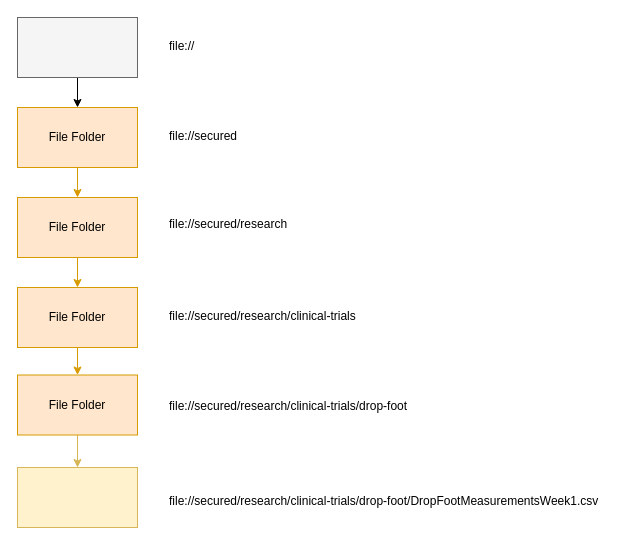
The diagram is 635 pixels wide and 545 high, and some of its shapes have lost their labels. The centre of each missing label's shape, as x and y in pixels:
"Data File" goes at (x=77, y=497).
"File System" goes at (x=77, y=47).
